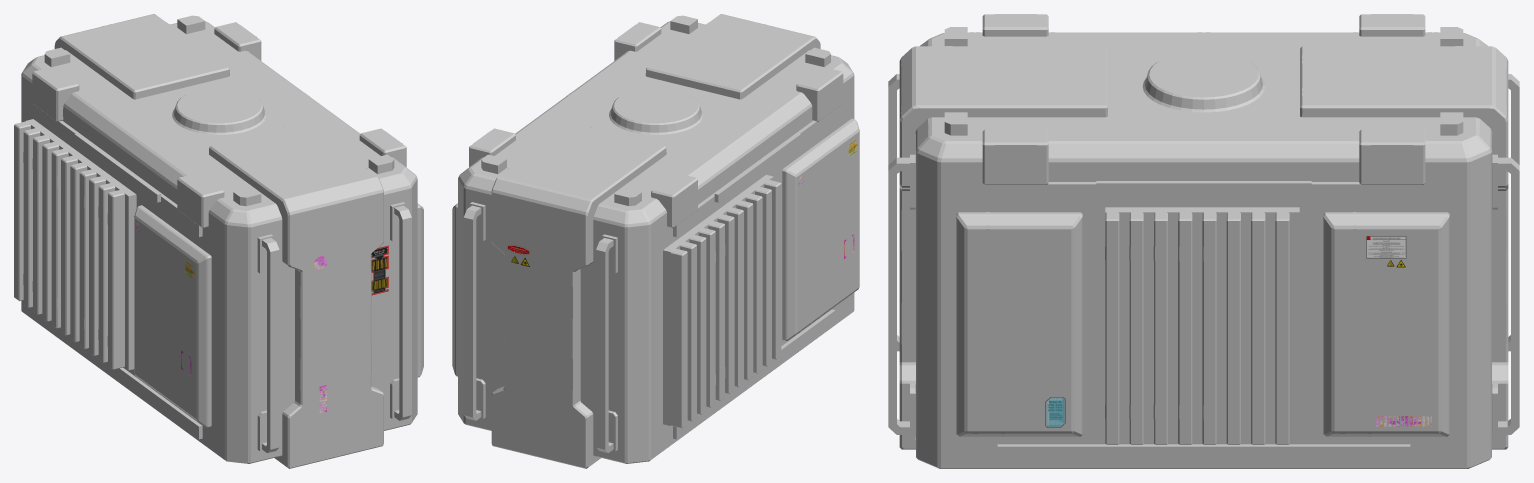
File: prop_14.fbx
The picture shows the model from 3 angles, left to right: view 1: azimuth 30°, elevation 25°; view 2: azimuth 150°, elevation 25°; view 3: azimuth 270°, elevation 25°; orthographic projection. The views are drawn at different scales.
Visible parts, largest first — view 1: Cube.475, Cube.483, Cube.487, Cube.481, Cube.486, Cylinder.098, Cube.485, Cube.484, Cube.490, Cube.489; view 2: Cube.475, Cube.483, Cube.487, Cube.481, Cube.486, Cylinder.098, Cube.485, Cube.488; view 3: Cube.475, Cube.479, Cube.483, Cube.484, Cube.488, Cube.481, Cylinder.098, Cube.485, Cube.490.
Boxes of the visible parts, <box> form: Cube.475: <box>21,21,417,463</box>; Cube.483: <box>32,14,411,468</box>; Cube.487: <box>14,114,139,370</box>; Cube.481: <box>89,31,379,461</box>; Cube.486: <box>134,197,220,432</box>; Cylinder.098: <box>168,87,270,136</box>; Cube.485: <box>61,46,382,459</box>; Cube.484: <box>417,203,423,377</box>; Cube.490: <box>184,245,388,295</box>; Cube.489: <box>135,222,326,412</box>; Cube.475: <box>458,21,854,463</box>; Cube.483: <box>463,14,843,468</box>; Cube.487: <box>660,170,781,428</box>; Cube.481: <box>496,31,785,461</box>; Cube.486: <box>773,109,859,341</box>; Cylinder.098: <box>605,87,707,136</box>; Cube.485: <box>493,46,813,459</box>; Cube.488: <box>452,203,457,376</box>; Cube.475: <box>916,32,1491,468</box>; Cube.479: <box>1098,201,1306,444</box>; Cube.483: <box>888,14,1519,449</box>; Cube.484: <box>948,201,1090,437</box>; Cube.488: <box>1315,201,1457,437</box>; Cube.481: <box>972,48,1435,102</box>; Cylinder.098: <box>1137,51,1270,114</box>; Cube.485: <box>911,54,1496,442</box>; Cube.490: <box>1045,236,1406,427</box>.
Size of the model in its own units: 1.66 by 1.82 by 3.
